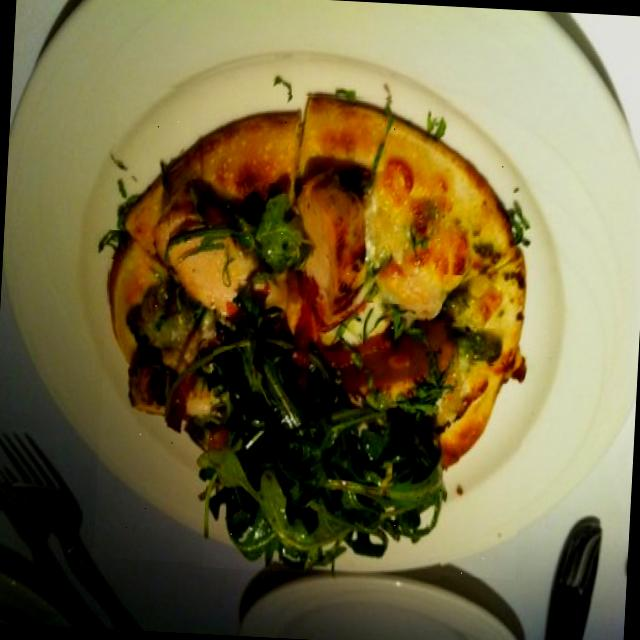basil: (202, 346, 451, 580), (167, 178, 315, 284), (406, 350, 452, 425), (362, 303, 428, 352), (438, 326, 506, 364), (442, 274, 476, 321), (92, 229, 123, 260)
pizza: (108, 96, 525, 568)
